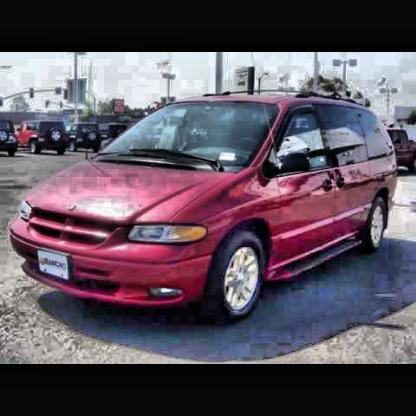Dodge Caravan Minivan 1997: (11, 91, 402, 329)
